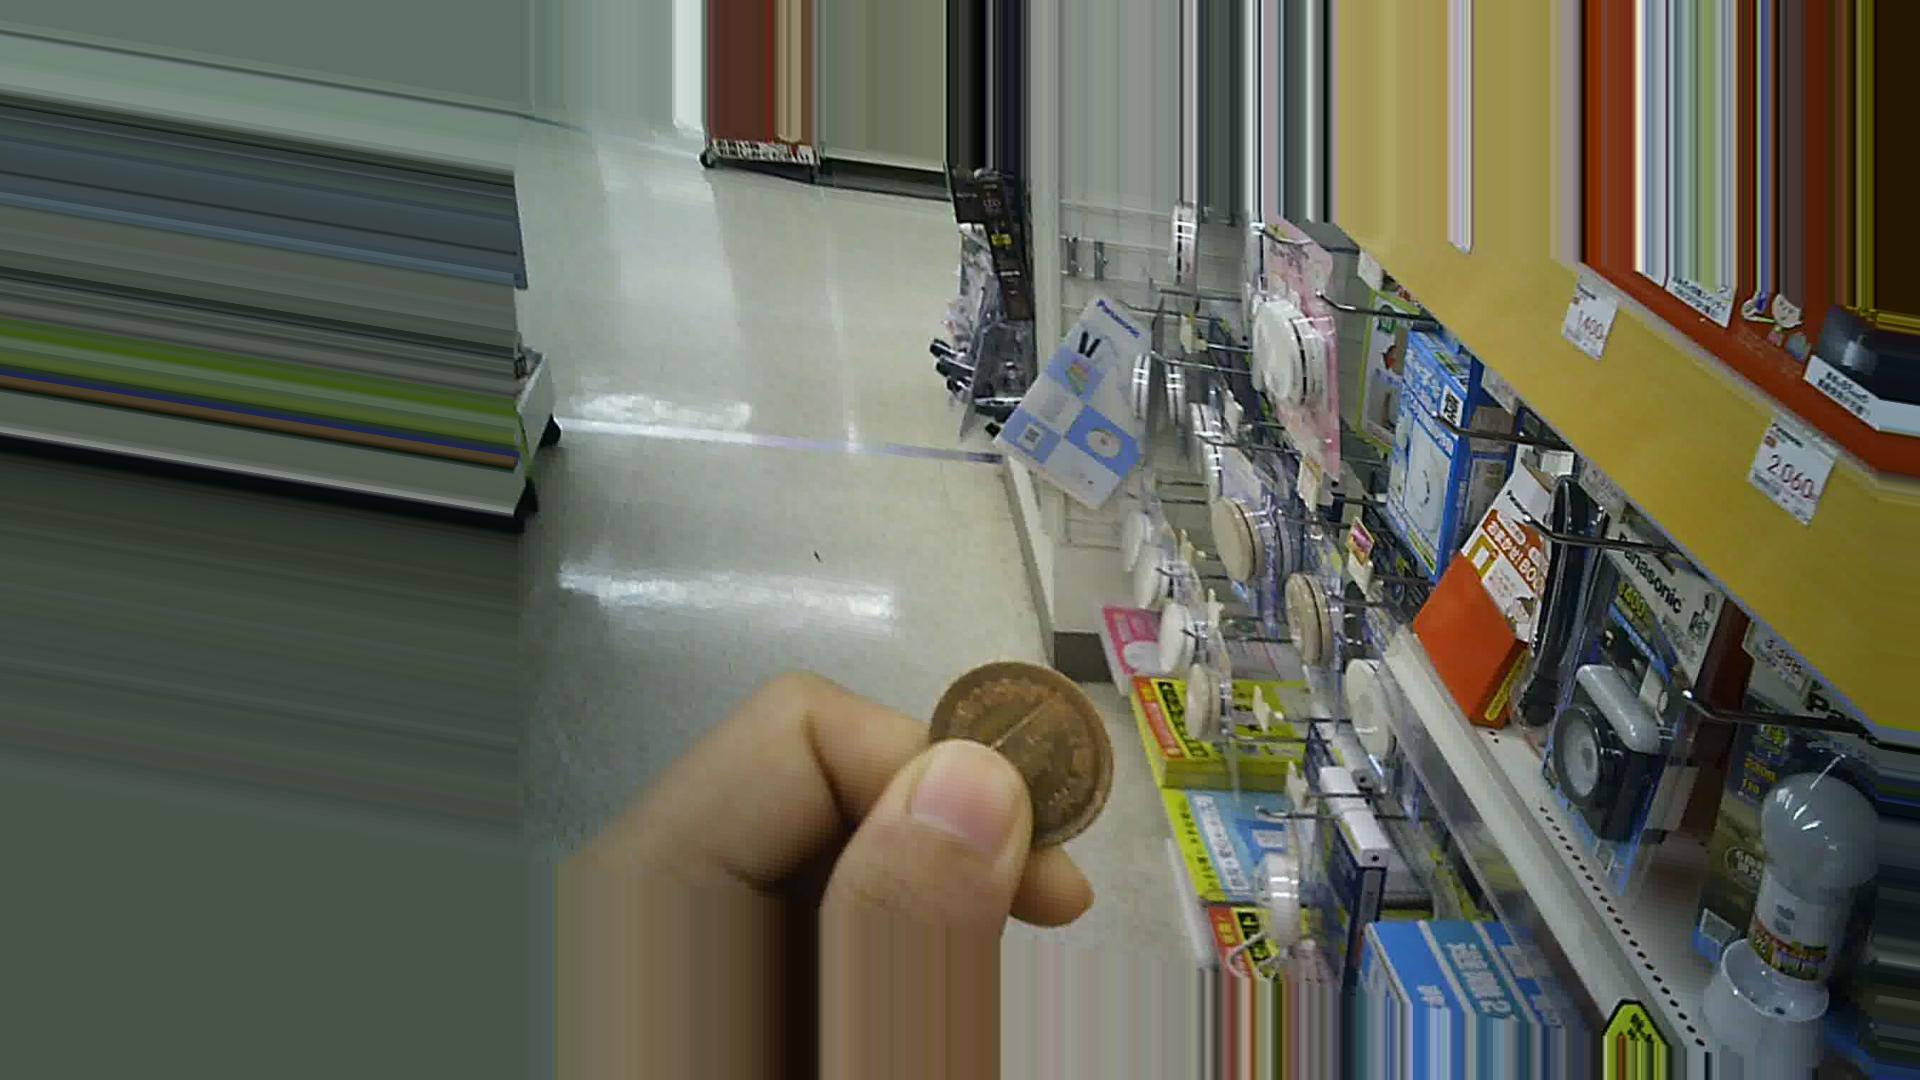10 Yen: (923, 657, 1131, 851)
